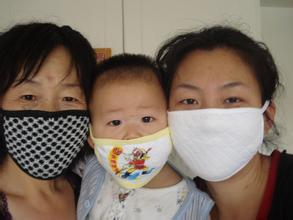OK: (168, 76, 265, 179), (1, 80, 88, 182)
WRONG: (92, 104, 171, 187)
